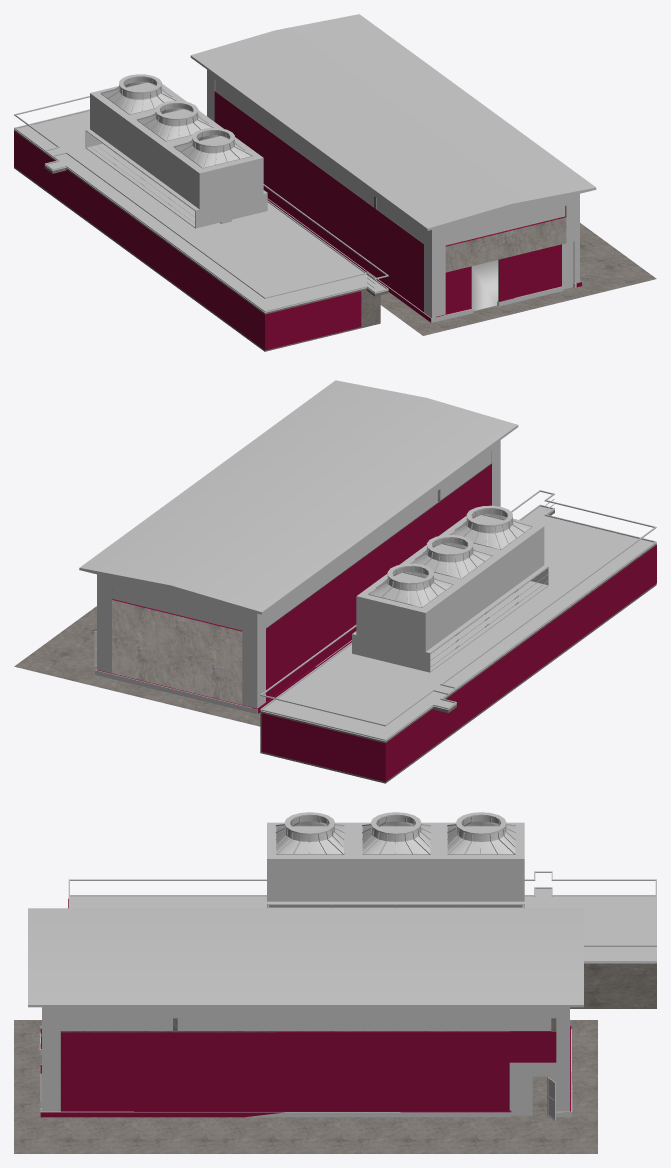
File: outer.DAE
3 views of the same model, one above another, from view 1: azimuth 30°, elevation 25°; view 2: azimuth 150°, elevation 25°; view 3: azimuth 270°, elevation 25° (orthographic). The views are drawn at different scales.
Parts seen in each view (by area): view 1: W002_Roof, W012_, W013-ch001, W015_fan, W001-ch007, W009_, W003_, W001_Wall, W001-ch002, W026-ins1, W013_, W017_Cooling_Tower_120CT01__Cooling_Tower_120CT02__Cooling_T (+10 smaller); view 2: W002_Roof, W012_, W013-ch001, W015_fan, W001-ch007, W001_Wall, W003_, W009_, W026-ins1, W017-ins2, W013_, W017_Cooling_Tower_120CT01__Cooling_Tower_120CT02__Cooling_T (+5 smaller); view 3: W002_Roof, W001-ch004, W009_, W015_fan, W003_, W012_, W026, W013_, W017-ins1, W017-ins2, W017_Cooling_Tower_120CT01__Cooling_Tower_120CT02__Cooling_T, W008_1 (+4 smaller).
Boxes of the visible parts, x1,y1,x2,y2 form: W002_Roof: [190, 14, 596, 230]; W012_: [14, 111, 388, 312]; W013-ch001: [14, 131, 361, 350]; W015_fan: [85, 82, 267, 228]; W001-ch007: [214, 91, 423, 311]; W009_: [380, 223, 656, 335]; W003_: [207, 70, 579, 317]; W001_Wall: [214, 80, 566, 300]; W001-ch002: [499, 244, 561, 301]; W026-ins1: [215, 80, 423, 243]; W013_: [14, 129, 388, 351]; W017_Cooling_Tower_120CT01__Cooling_Tower_120CT02__Cooling_T: [173, 127, 252, 168]; W002_Roof: [79, 380, 518, 614]; W012_: [261, 506, 655, 741]; W013-ch001: [281, 545, 656, 781]; W015_fan: [352, 515, 548, 672]; W001-ch007: [266, 464, 491, 701]; W001_Wall: [112, 451, 491, 704]; W003_: [97, 440, 500, 708]; W009_: [14, 606, 260, 726]; W026-ins1: [266, 452, 491, 627]; W017-ins2: [368, 563, 453, 607]; W013_: [260, 510, 656, 783]; W017_Cooling_Tower_120CT01__Cooling_Tower_120CT02__Cooling_T: [448, 505, 532, 549]; W002_Roof: [28, 908, 583, 1007]; W001-ch004: [61, 1032, 509, 1111]; W009_: [14, 1020, 597, 1153]; W015_fan: [267, 822, 524, 908]; W003_: [42, 1007, 569, 1111]; W012_: [70, 889, 656, 963]; W026: [60, 1018, 551, 1030]; W013_: [570, 963, 656, 1008]; W017-ins1: [362, 812, 430, 854]; W017-ins2: [447, 812, 515, 854]; W017_Cooling_Tower_120CT01__Cooling_Tower_120CT02__Cooling_T: [275, 812, 344, 854]; W008_1: [39, 1026, 572, 1117].
Size of what is drawn, in the model's own units: 277 by 344 by 88.29.
